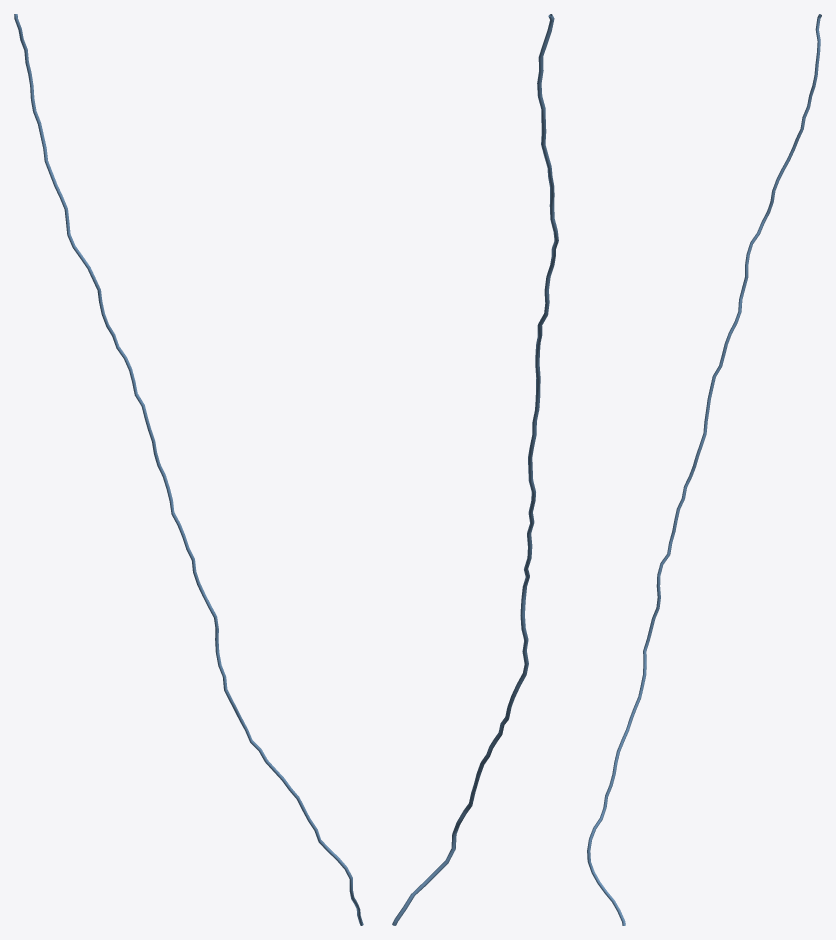
File: sweep276.fbx
3 views of the same model, side by side, from view 1: azimuth 30°, elevation 25°; view 2: azimuth 150°, elevation 25°; view 3: azimuth 270°, elevation 25° (orthographic). The views are drawn at different scales.
Parts seen in each view (by area): view 1: sweep276; view 2: sweep276; view 3: sweep276.
Boxes of the visible parts, x1,y1,x2,y2 form: sweep276: (14,14,363,925); sweep276: (392,14,558,925); sweep276: (587,14,821,925).
Size of the model in its own units: 1.49 by 5.25 by 1.39.
